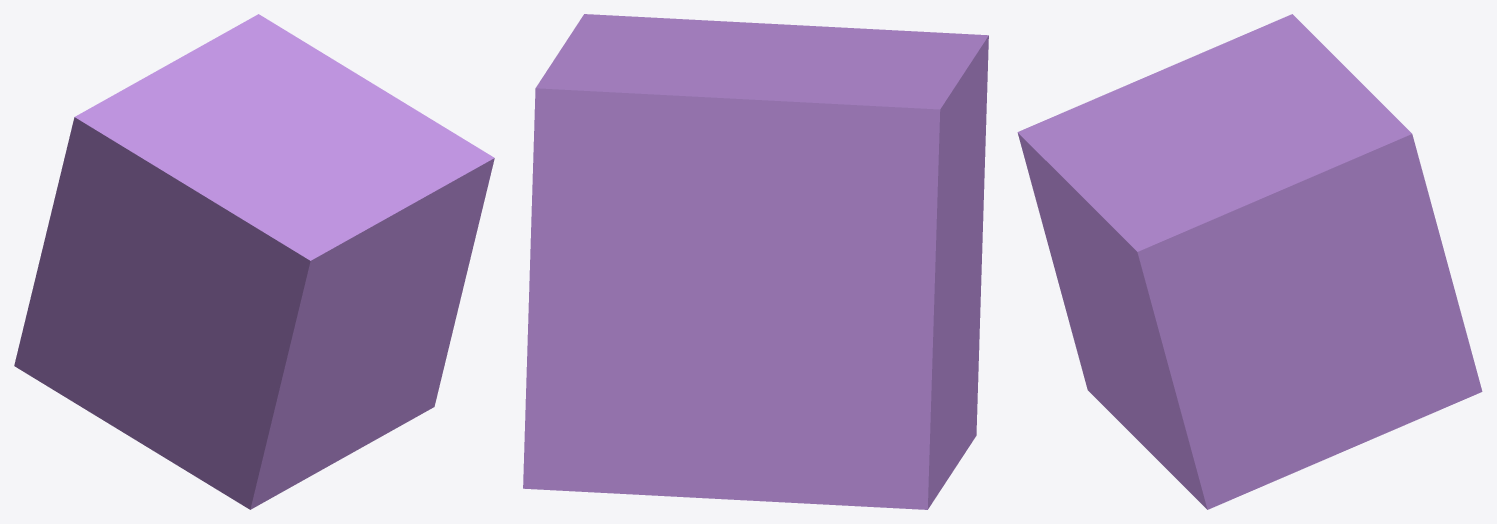
3 views of the same model, side by side, from view 1: azimuth 30°, elevation 25°; view 2: azimuth 150°, elevation 25°; view 3: azimuth 270°, elevation 25° (orthographic). The views are drawn at different scales.
Bounding box in the file's own units: 1.74 × 1.52 × 1.89.
